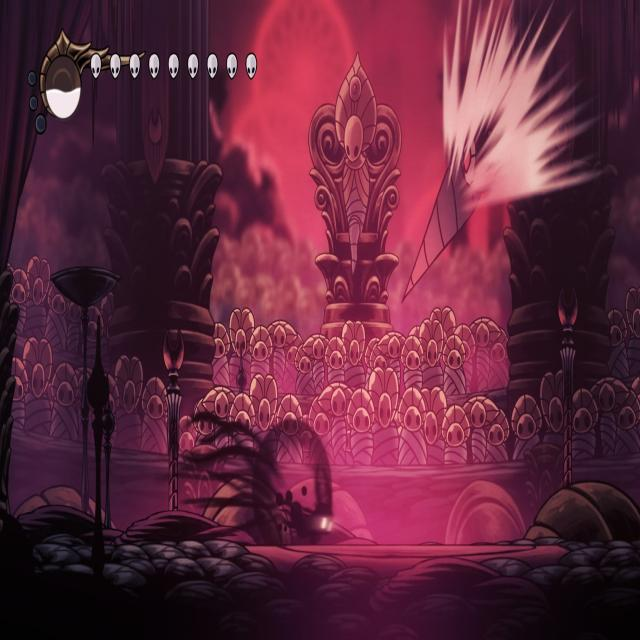Dive Dash: (400, 90, 517, 304)
Player: (280, 456, 342, 544)
